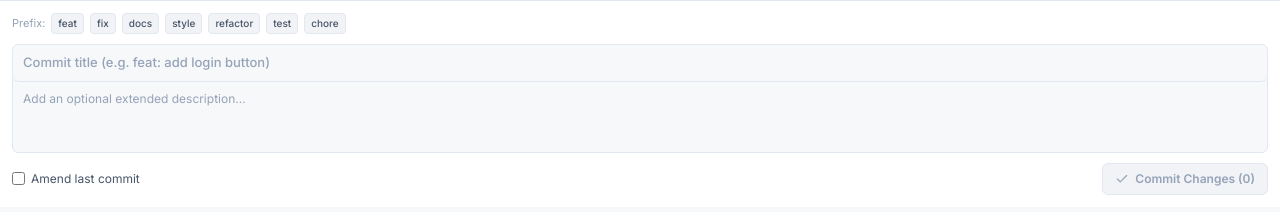
Test: CommitBox › allows amending with nothing staged
Step 1. Click the checkbox labelled "Amend last commit" → (18, 178), box [12, 172, 25, 185]
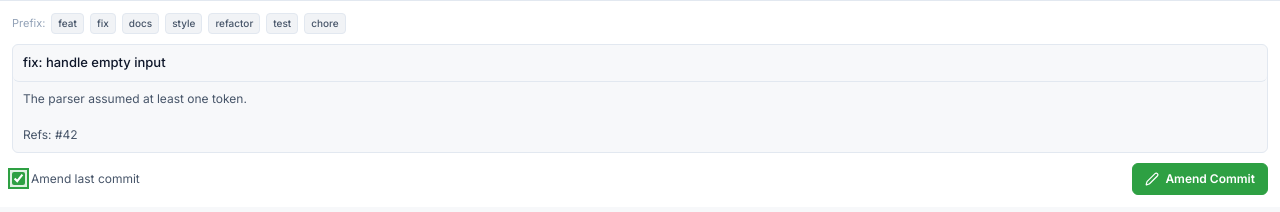
Expected: the button "Amend Commit" is enabled, [1132, 162, 1268, 194]
